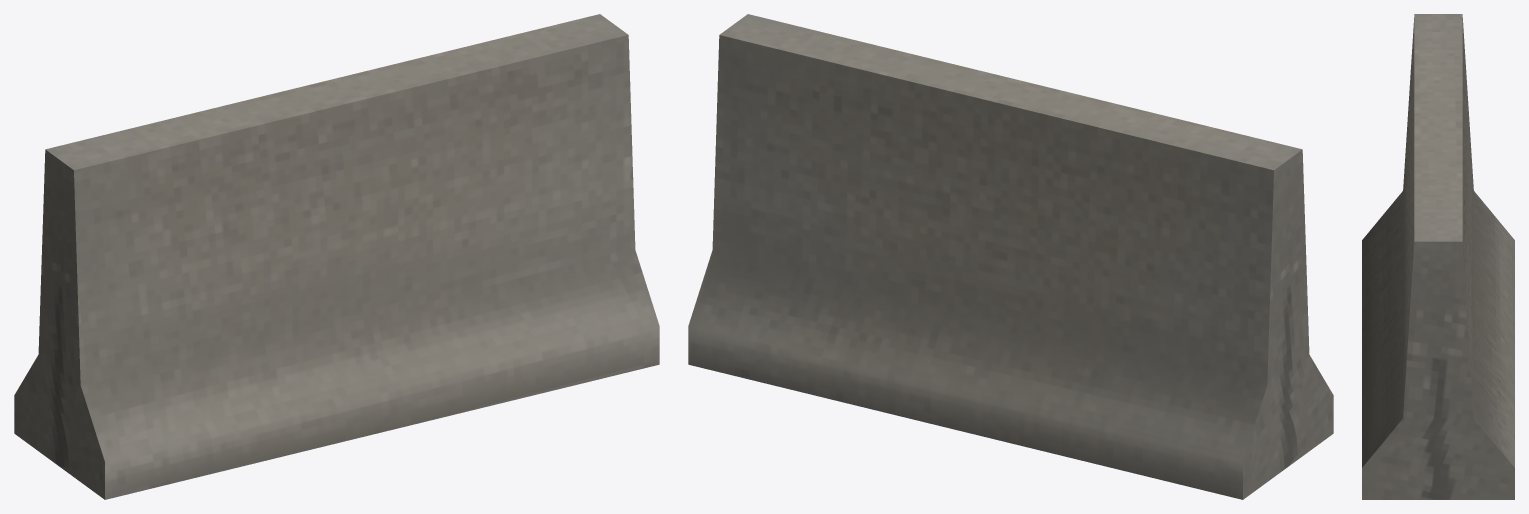
The model's file is jerseybarrier_1.fbx.
3 renders of one model, left to right at view 1: azimuth 30°, elevation 25°; view 2: azimuth 150°, elevation 25°; view 3: azimuth 270°, elevation 25°, orthographic. The views are drawn at different scales.
Visible parts, largest first — view 1: jerseybarrier1; view 2: jerseybarrier1; view 3: jerseybarrier1.
Boxes of the visible parts, x1,y1,x2,y2 form: jerseybarrier1: (14,14,659,499); jerseybarrier1: (688,14,1333,499); jerseybarrier1: (1362,14,1514,499).
Size of the model in its own units: 3.61 by 1.91 by 1.02.
